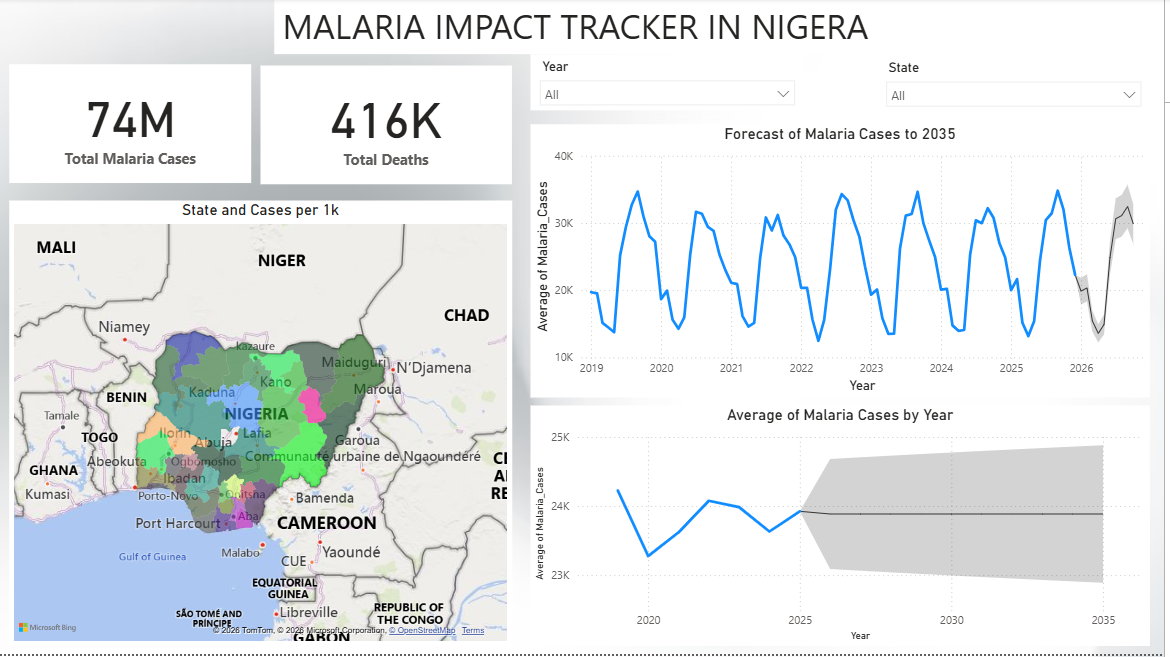

The dashboard page shown, as its layout file describes it:
{"tool":"powerbi","page":{"name":"Page 1","canvas":[1280,720],"ordinal":0},"visuals":[{"type":"card","fields":{"Values":["Sum(malaria_panel.Malaria_Cases)"]},"box":[12.3,72.7,260.7,159.2],"z":0},{"type":"card","fields":{"Values":["Sum(malaria_panel.Deaths)"]},"box":[303.3,72.7,260.7,159.2],"z":1000},{"type":"card","fields":{"Values":["Sum(malaria_panel.BedNet_Coverage)"]},"box":[639.5,130.4,260.7,159.2],"z":2000},{"type":"kpi","fields":{"TrendLine":["malaria_panel.State"],"Goal":["CountNonNull(malaria_panel.Date)"],"Indicator":["Max(malaria_panel.Malaria_Cases)"]},"box":[985.3,130.4,260.7,159.2],"z":3000},{"type":"lineChart","fields":{"Y":["Avg(malaria_panel.Malaria_Cases)"],"Category":["malaria_panel.Date.Variation.Date Hierarchy.Year","malaria_panel.Date.Variation.Date Hierarchy.Month"]},"box":[12.3,289.5,627.1,290.9],"z":4000},{"type":"filledMap","fields":{"Category":["malaria_panel.State"],"Series":["malaria_panel.Cases_per_1k"]},"box":[703.9,289.5,411.7,352.7],"z":5000},{"type":"qnaVisual","box":[985.3,0,260.7,150],"z":5001}]}

Visuals, with their boxes in screenshot pixels (x1, y1, x2, y2), scaled from the page's 1280x720 canvas onto the 1170x657 screenshot:
card - Sum(malaria_panel.Malaria_Cases): l=11, t=66, r=250, b=212
card - Sum(malaria_panel.Deaths): l=277, t=66, r=516, b=212
card - Sum(malaria_panel.BedNet_Coverage): l=585, t=119, r=823, b=264
kpi - malaria_panel.State x CountNonNull(malaria_panel.Date): l=901, t=119, r=1139, b=264
lineChart - Avg(malaria_panel.Malaria_Cases) x malaria_panel.Date.Variation.Date Hierarchy.Year: l=11, t=264, r=584, b=530
filledMap - malaria_panel.State x malaria_panel.Cases_per_1k: l=643, t=264, r=1020, b=586
qnaVisual: l=901, t=0, r=1139, b=137
